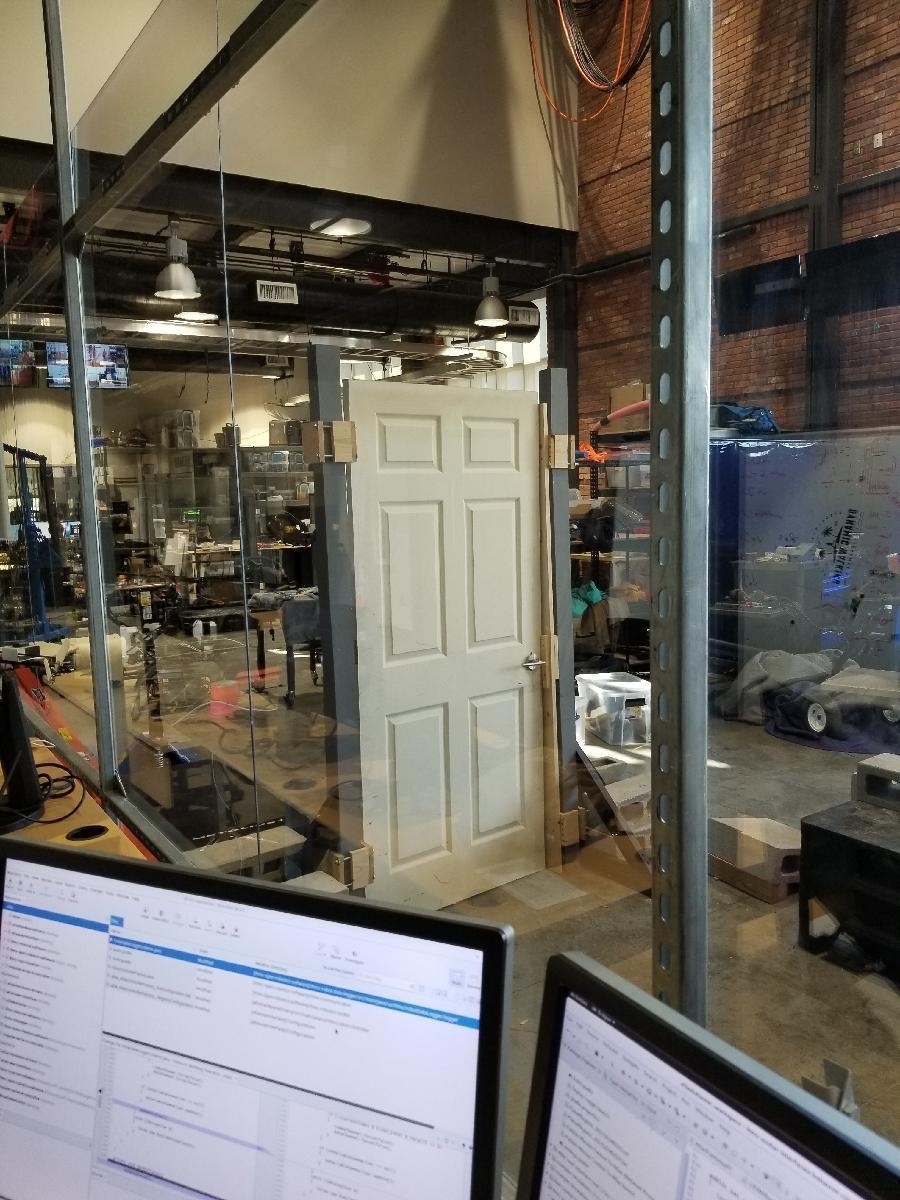door: (348, 378, 550, 915)
handle: (518, 649, 548, 674)
